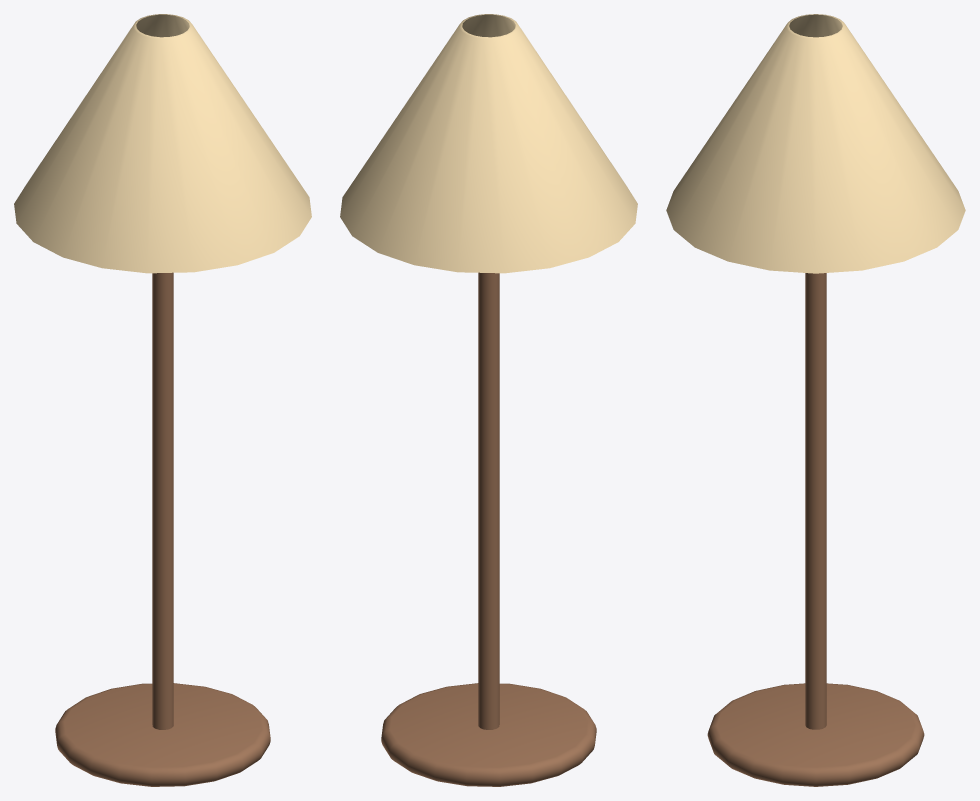
File: Floor-Lamp.fbx
3 renders of one model, left to right at view 1: azimuth 30°, elevation 25°; view 2: azimuth 150°, elevation 25°; view 3: azimuth 270°, elevation 25°, orthographic.
Visible parts, largest first — view 1: Floor-Lamp; view 2: Floor-Lamp; view 3: Floor-Lamp.
Boxes of the visible parts, x1,y1,x2,y2 form: Floor-Lamp: [14, 14, 311, 786]; Floor-Lamp: [340, 14, 637, 786]; Floor-Lamp: [666, 14, 965, 786].
Bounding box in the file's own units: 2.27 × 6.02 × 2.27.
